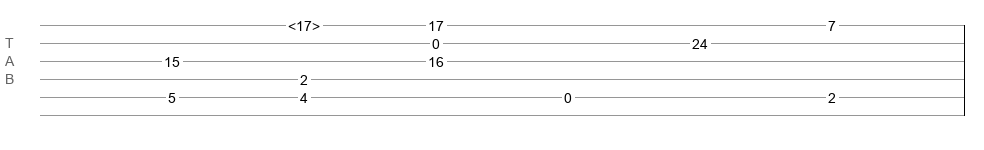0: (432, 36, 440, 46), (564, 90, 572, 100)
15: (164, 54, 180, 64)
16: (428, 54, 444, 64)
17: (428, 18, 444, 28)
2: (300, 72, 308, 82), (828, 90, 836, 100)
24: (692, 36, 708, 46)
4: (300, 90, 308, 100)
5: (168, 90, 176, 100)
7: (828, 18, 836, 28)
harmonic: (288, 18, 320, 28)
